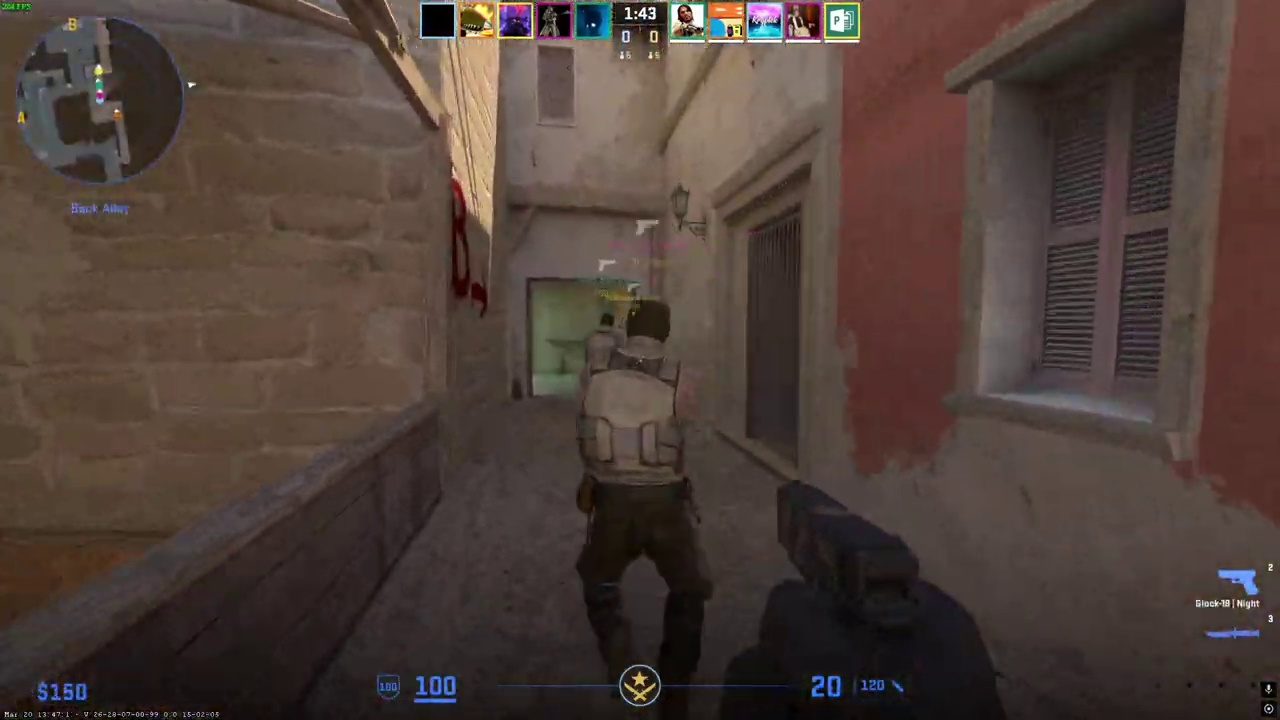Terrorist: (576, 299, 715, 720), (584, 312, 623, 373)
